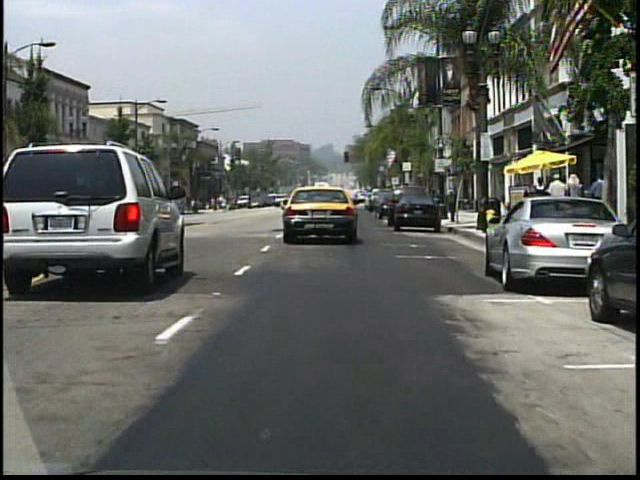person: (545, 172, 568, 225), (563, 172, 585, 226), (590, 170, 610, 227), (530, 175, 549, 222), (247, 193, 255, 208)
